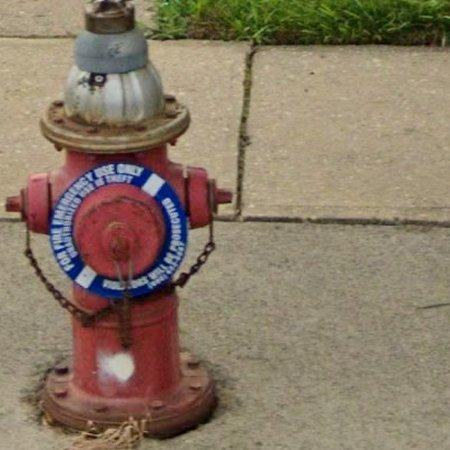a fire hydrant: (5, 0, 232, 437)
